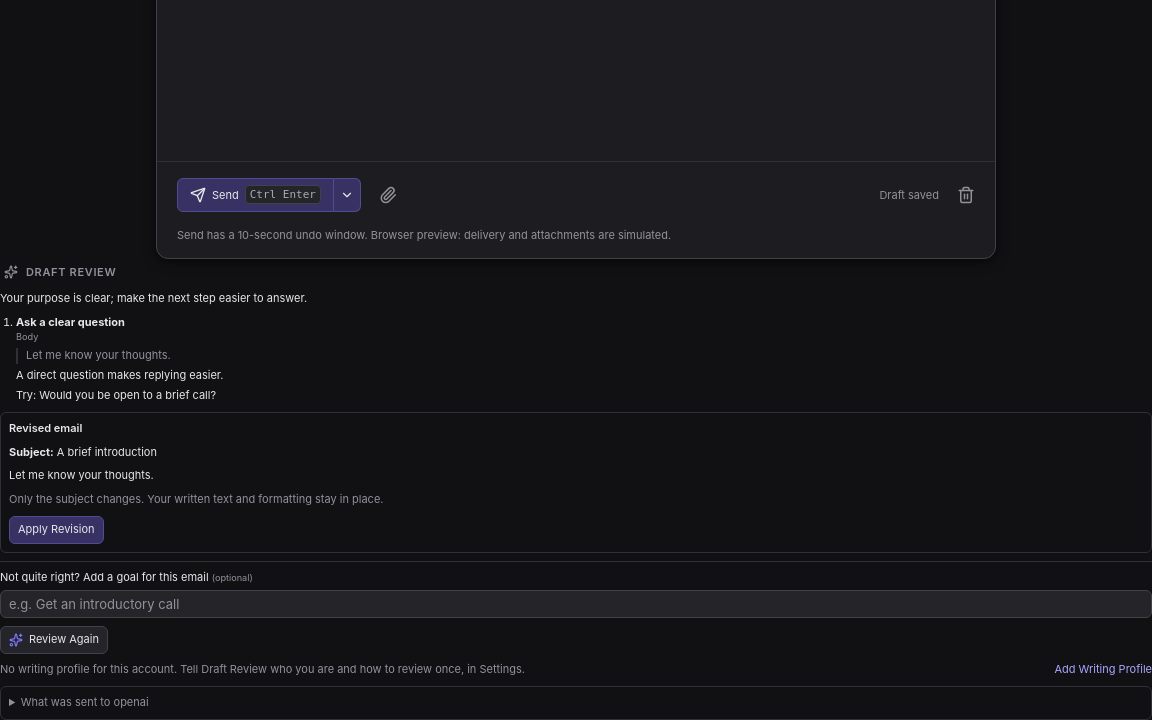
Draft review › preserves formatting when only the subject changes, including during undo
(page scrolled)
Expected: the text "Your purpose is clear; make the next step easier to answer." is shown, [0, 291, 307, 305]
Click the button "Apply Revision" at x=56, y=530, box [9, 516, 104, 544]
(page scrolled)
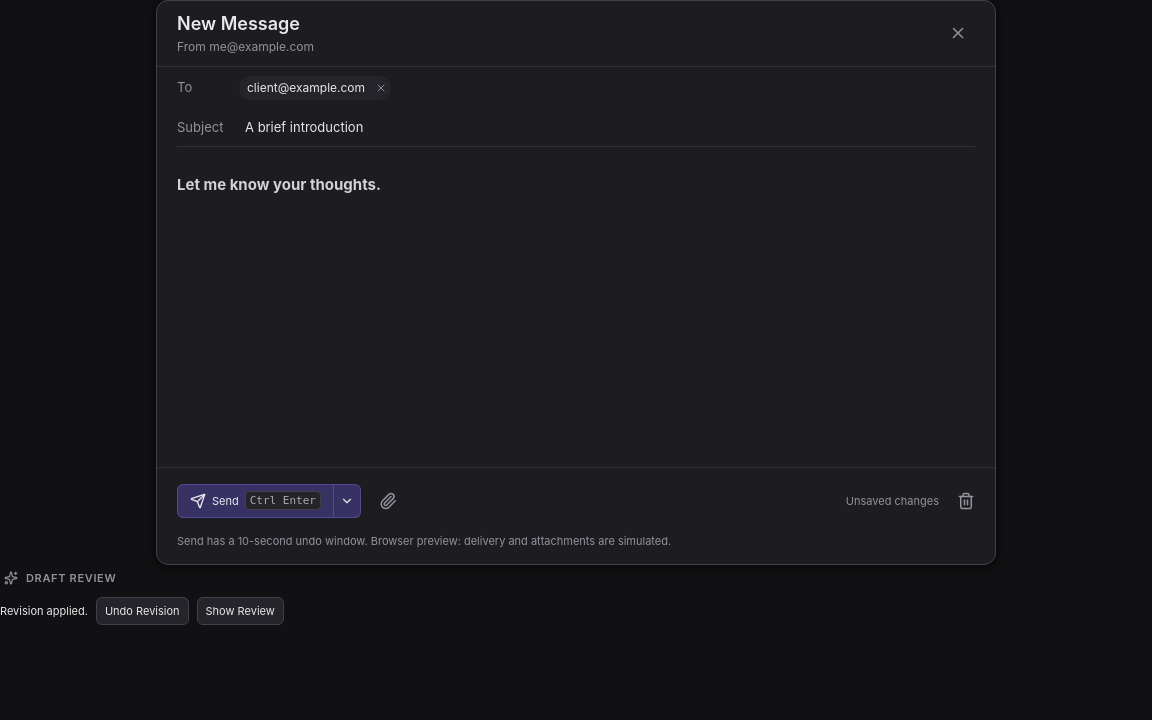
Expected: the text box labelled "Let me know your thoughts." is shown, [177, 175, 381, 194]
Now the field labelled "Subject" holds "A brief introduction", box [239, 110, 975, 144]
Click the button "Undo Revision" at x=142, y=611, box [96, 597, 188, 625]
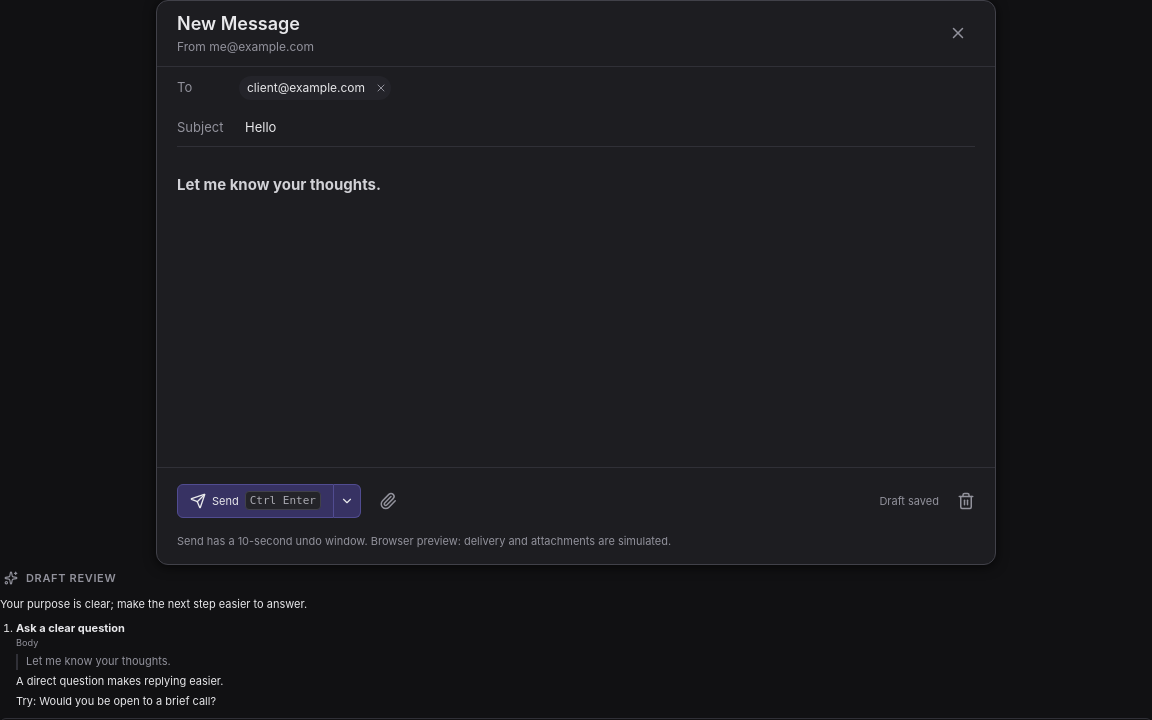
Expected: the text box labelled "Let me know your thoughts." is shown, [177, 175, 381, 194]
Now the field labelled "Subject" holds "Hello", box [239, 110, 975, 144]
